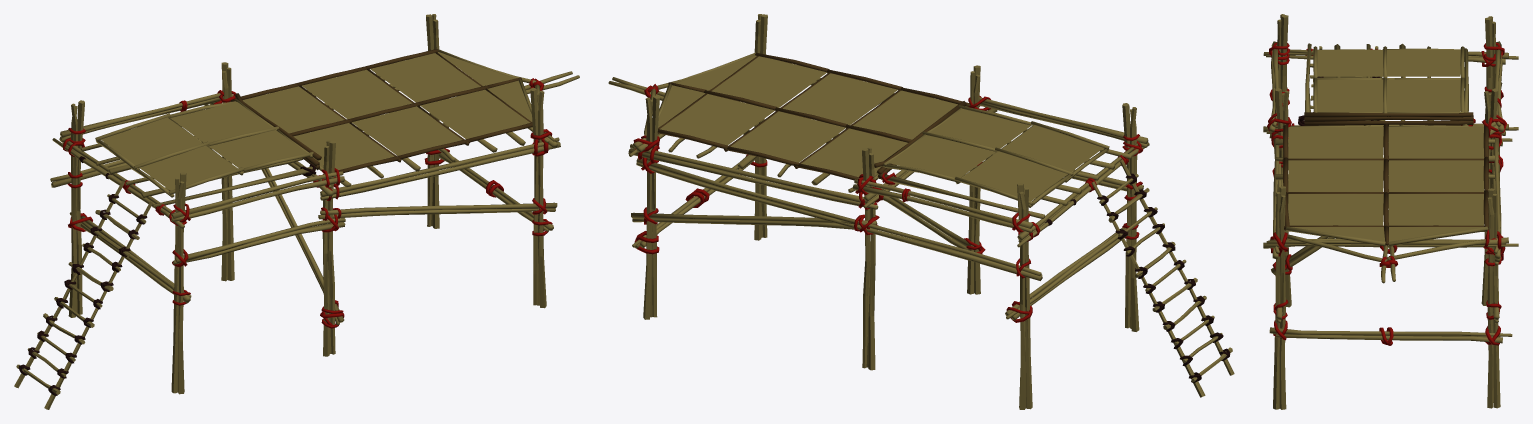
Rendered from constructionsite.FBX.
3 views of the same model, side by side, from view 1: azimuth 30°, elevation 25°; view 2: azimuth 150°, elevation 25°; view 3: azimuth 270°, elevation 25° (orthographic). The views are drawn at different scales.
Parts seen in each view (by area): view 1: constructionsite_floor, constructionsite_ladder, constructionsite_column_04, constructionsite_column_06, constructionsite_column_01, constructionsite_column_05, constructionsite_column_02, constructionsite_column_03; view 2: constructionsite_floor, constructionsite_ladder, constructionsite_column_02, constructionsite_column_01, constructionsite_column_06, constructionsite_column_03, constructionsite_column_05, constructionsite_column_04; view 3: constructionsite_floor, constructionsite_column_04, constructionsite_column_03, constructionsite_column_02, constructionsite_column_05, constructionsite_column_06, constructionsite_column_01.
Boxes of the visible parts, <box> form: constructionsite_floor: <box>50,49,579,328</box>; constructionsite_ladder: <box>14,181,152,409</box>; constructionsite_column_04: <box>530,87,546,308</box>; constructionsite_column_06: <box>171,172,186,394</box>; constructionsite_column_01: <box>68,100,84,317</box>; constructionsite_column_05: <box>322,140,335,356</box>; constructionsite_column_02: <box>221,62,234,281</box>; constructionsite_column_03: <box>426,14,439,228</box>; constructionsite_floor: <box>608,52,1149,322</box>; constructionsite_ladder: <box>1091,160,1234,397</box>; constructionsite_column_02: <box>862,147,875,370</box>; constructionsite_column_01: <box>1017,183,1032,409</box>; constructionsite_column_06: <box>1122,103,1139,331</box>; constructionsite_column_03: <box>643,95,659,319</box>; constructionsite_column_05: <box>967,65,980,294</box>; constructionsite_column_04: <box>754,14,767,240</box>; constructionsite_floor: <box>1263,41,1518,345</box>; constructionsite_column_04: <box>1273,186,1286,409</box>; constructionsite_column_03: <box>1487,188,1500,408</box>; constructionsite_column_02: <box>1481,88,1498,305</box>; constructionsite_column_05: <box>1275,88,1291,307</box>; constructionsite_column_06: <box>1277,14,1288,111</box>; constructionsite_column_01: <box>1485,16,1496,114</box>.
Bounding box in the file's own units: 384 × 149 × 142.
